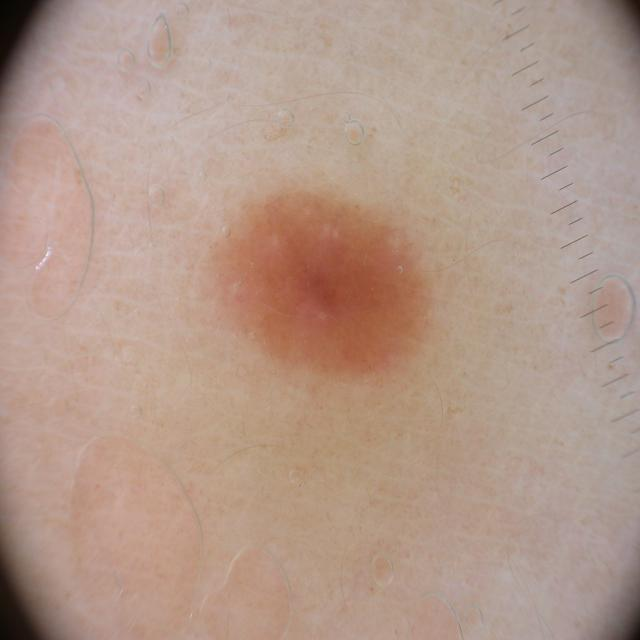Benign: (211, 181, 441, 400)
